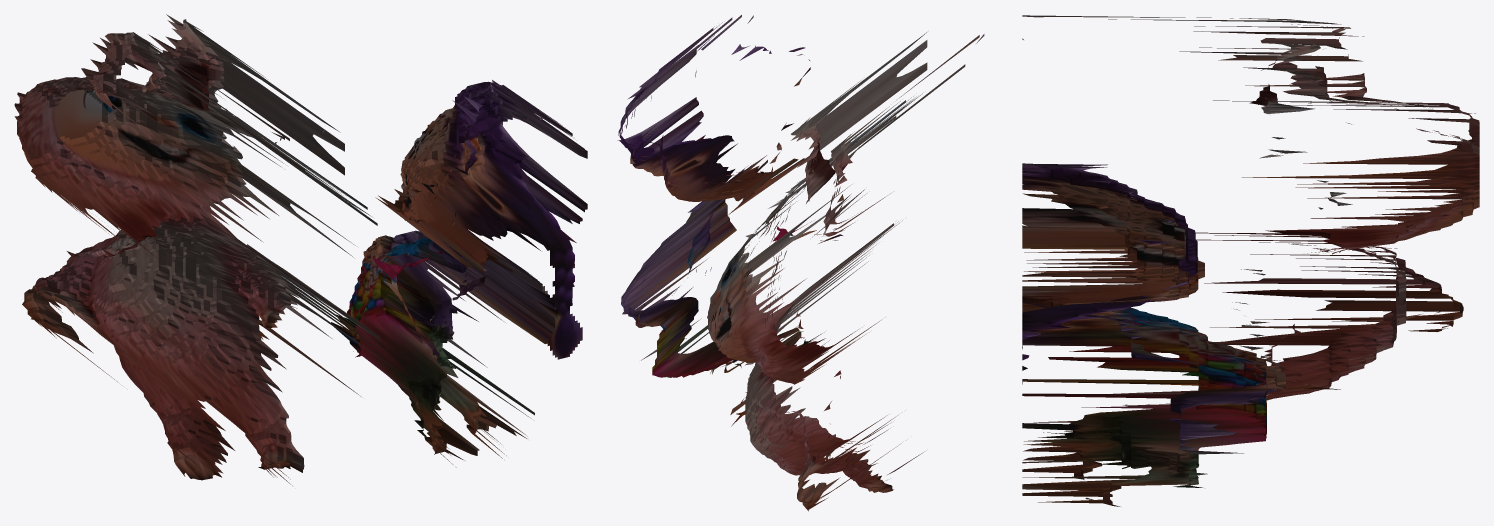
Rendered from frame_00099.glb.
3 renders of one model, left to right at view 1: azimuth 30°, elevation 25°; view 2: azimuth 150°, elevation 25°; view 3: azimuth 270°, elevation 25°, orthographic. The views are drawn at different scales.
Visible parts, largest first — view 1: geometry_0; view 2: geometry_0; view 3: geometry_0.
Boxes of the visible parts, box(x1,y1,x2,y2) form: geometry_0: box(14, 14, 587, 485); geometry_0: box(617, 15, 984, 511); geometry_0: box(1022, 15, 1479, 506).
Size of the model in its own units: 0.1377 by 0.1556 by 0.16.
1 material, 1 textured.
